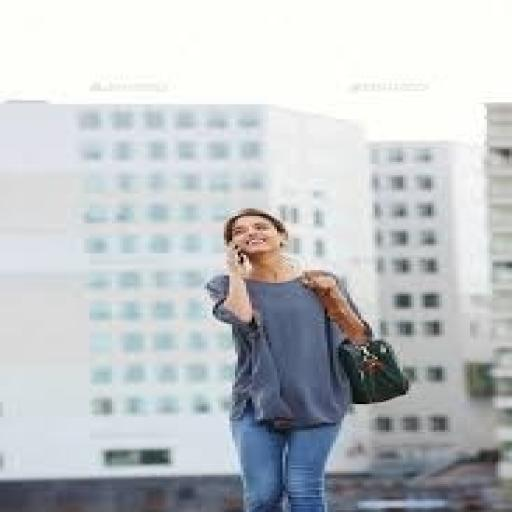calling: (198, 207, 380, 510)
